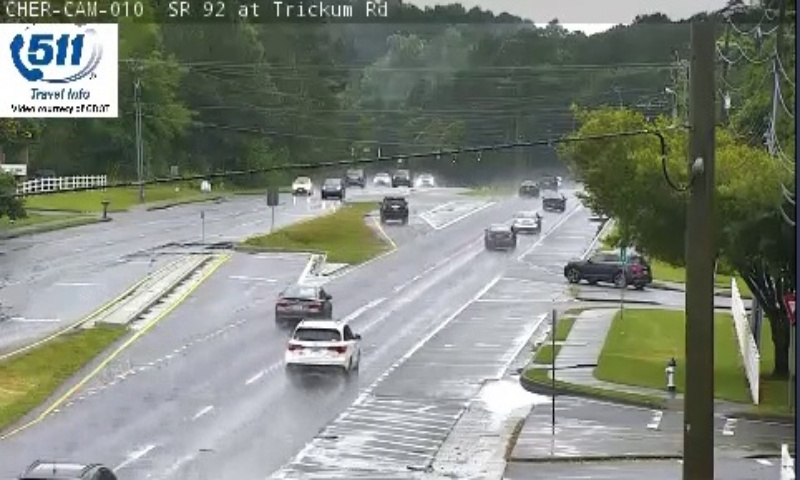car: (285, 319, 360, 371), (275, 285, 331, 324), (484, 223, 516, 250), (378, 196, 410, 220), (510, 211, 542, 234)
